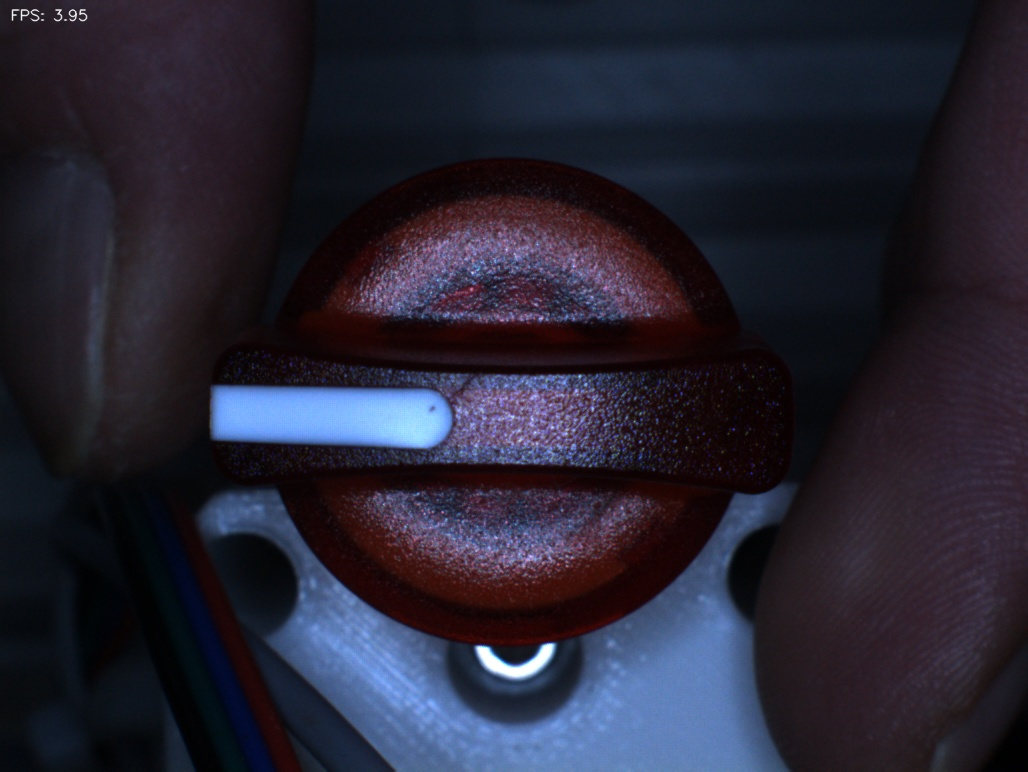PointNoir: (396, 374, 465, 446)
